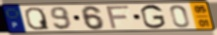0: (169, 4, 191, 29)
6: (80, 5, 107, 31)
9: (49, 6, 74, 31)
F: (105, 4, 132, 30)
G: (139, 4, 168, 30)
Q: (24, 6, 51, 31)
